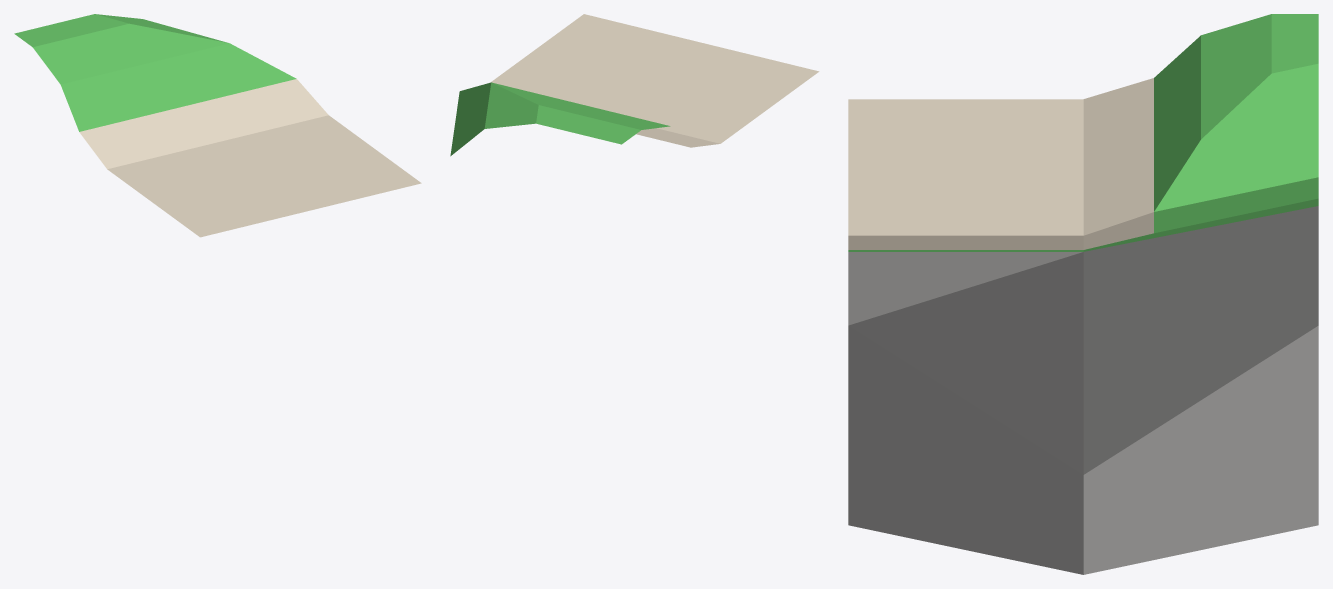
File: Cliff_Terrain_Side_Falloff_Edge.glb
3 views of the same model, side by side, from view 1: azimuth 30°, elevation 25°; view 2: azimuth 150°, elevation 25°; view 3: azimuth 270°, elevation 25° (orthographic). The views are drawn at different scales.
Parts seen in each view (by area): view 1: Cliff_Terrain_Side_Falloff_Edge; view 2: Cliff_Terrain_Side_Falloff_Edge; view 3: Cliff_Terrain_Side_Falloff_Edge.
Part boxes in pixels (left/top/right/bottom): Cliff_Terrain_Side_Falloff_Edge: left=14, top=14, right=421, bottom=237; Cliff_Terrain_Side_Falloff_Edge: left=450, top=14, right=819, bottom=156; Cliff_Terrain_Side_Falloff_Edge: left=848, top=14, right=1318, bottom=574.
Size of the model in its own units: 0.6875 by 1.2 by 1.
